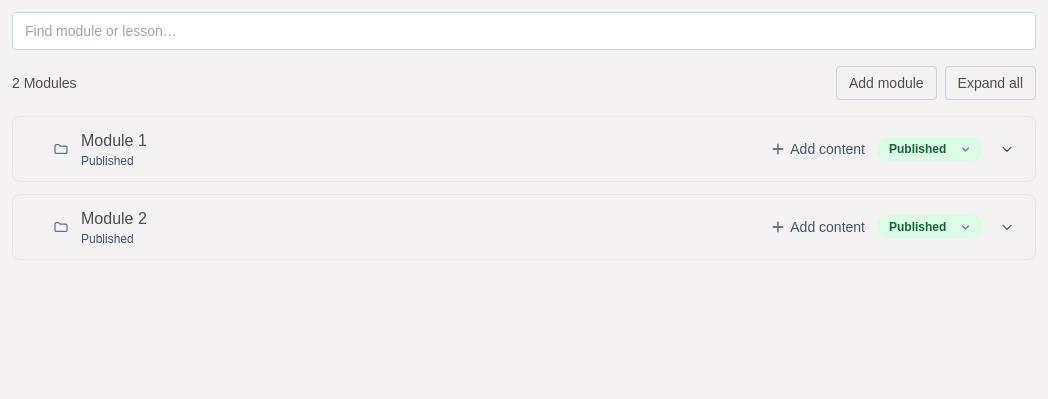
Test: adding › keeps the field open and shows why when the add is refused
The width and height of the screenshot is (1048, 399).
Click the button "Add module" at [886, 83], box x1=836 y1=66 x2=937 y2=100
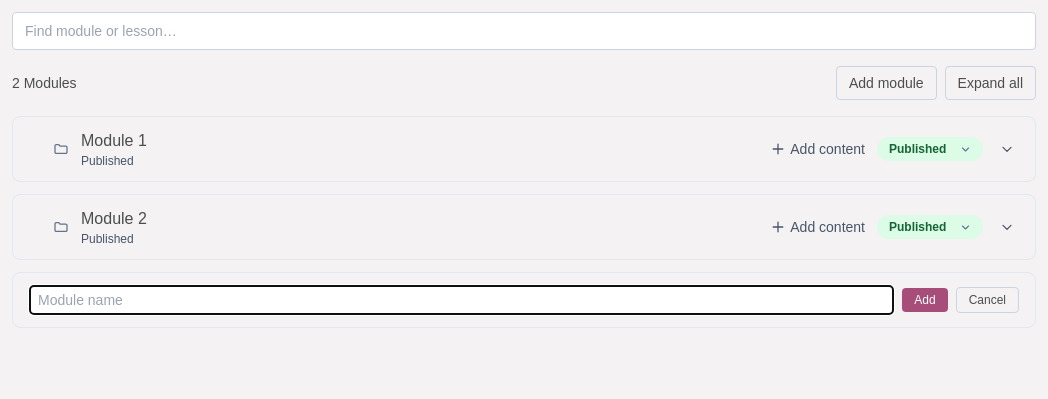
Type "x" into the field named "New module name" at [462, 300], box x1=29 y1=285 x2=894 y2=315
Then press Enter
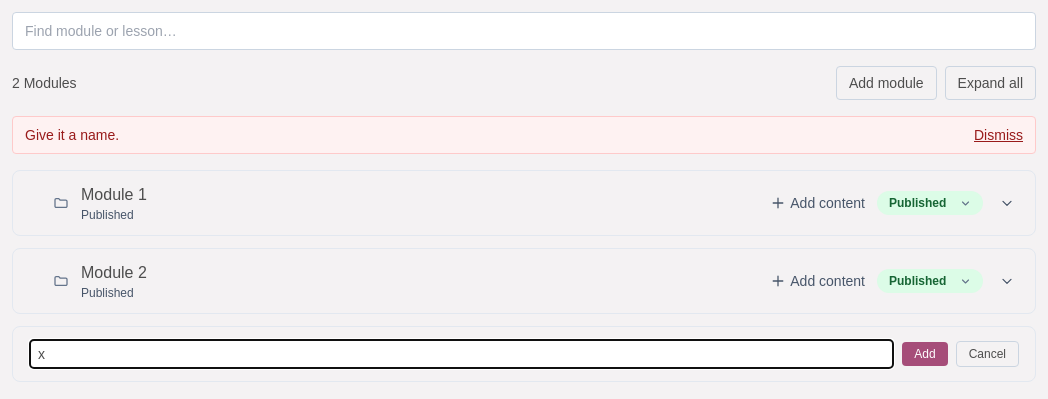
Now the message shows "Give it a name.", box x1=25 y1=127 x2=119 y2=143
Click the button "Dismiss" at [998, 135], box x1=974 y1=125 x2=1023 y2=145
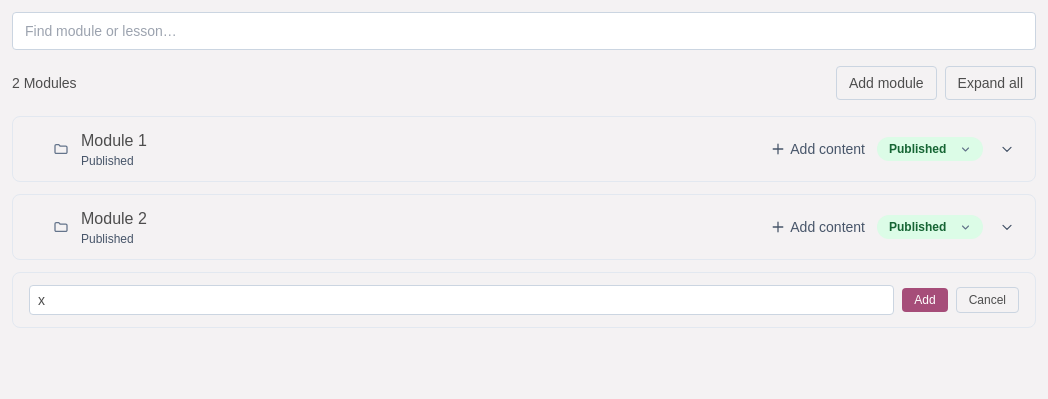
Now the message "Give it a name. Dismiss" is gone
